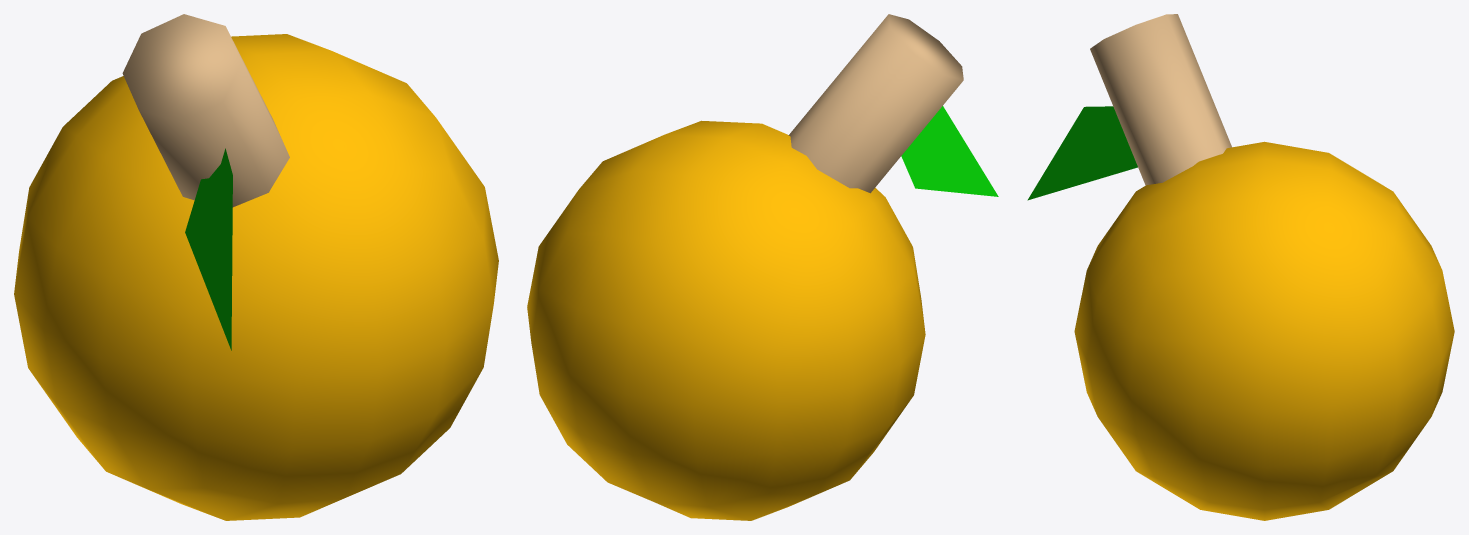
Rendered from Berry.fbx.
3 views of the same model, side by side, from view 1: azimuth 30°, elevation 25°; view 2: azimuth 150°, elevation 25°; view 3: azimuth 270°, elevation 25° (orthographic). The views are drawn at different scales.
Parts seen in each view (by area): view 1: Pulp, Branch, Leaf; view 2: Pulp, Branch, Leaf; view 3: Pulp, Branch, Leaf.
Boxes of the visible parts, x1,y1,x2,y2 form: Pulp: [14, 34, 498, 520]; Branch: [122, 14, 289, 207]; Leaf: [185, 148, 232, 350]; Pulp: [527, 120, 925, 520]; Branch: [788, 14, 963, 193]; Leaf: [901, 106, 998, 196]; Pulp: [1074, 141, 1454, 520]; Branch: [1090, 14, 1231, 185]; Leaf: [1027, 106, 1137, 200].
Size of the model in its own units: 1 by 1.27 by 1.12.
